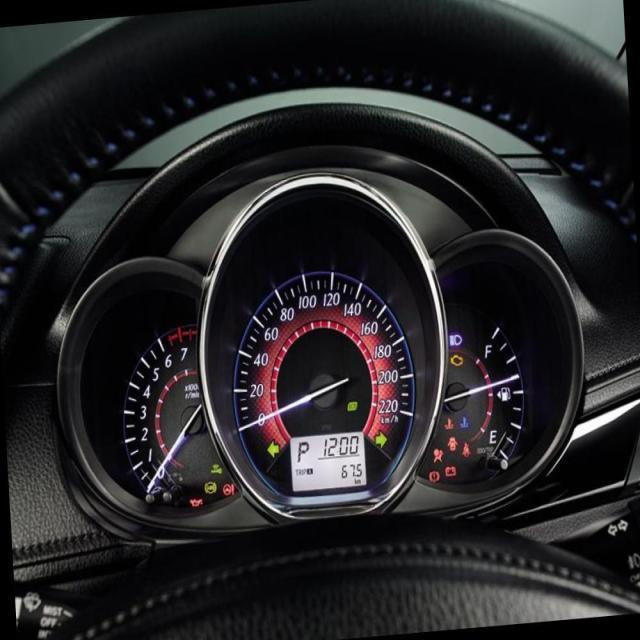Electronic Power Steering: (222, 484, 235, 496)
High Engine Coolant Temperature: (444, 417, 454, 430)
Seat Belt: (462, 442, 472, 458)
